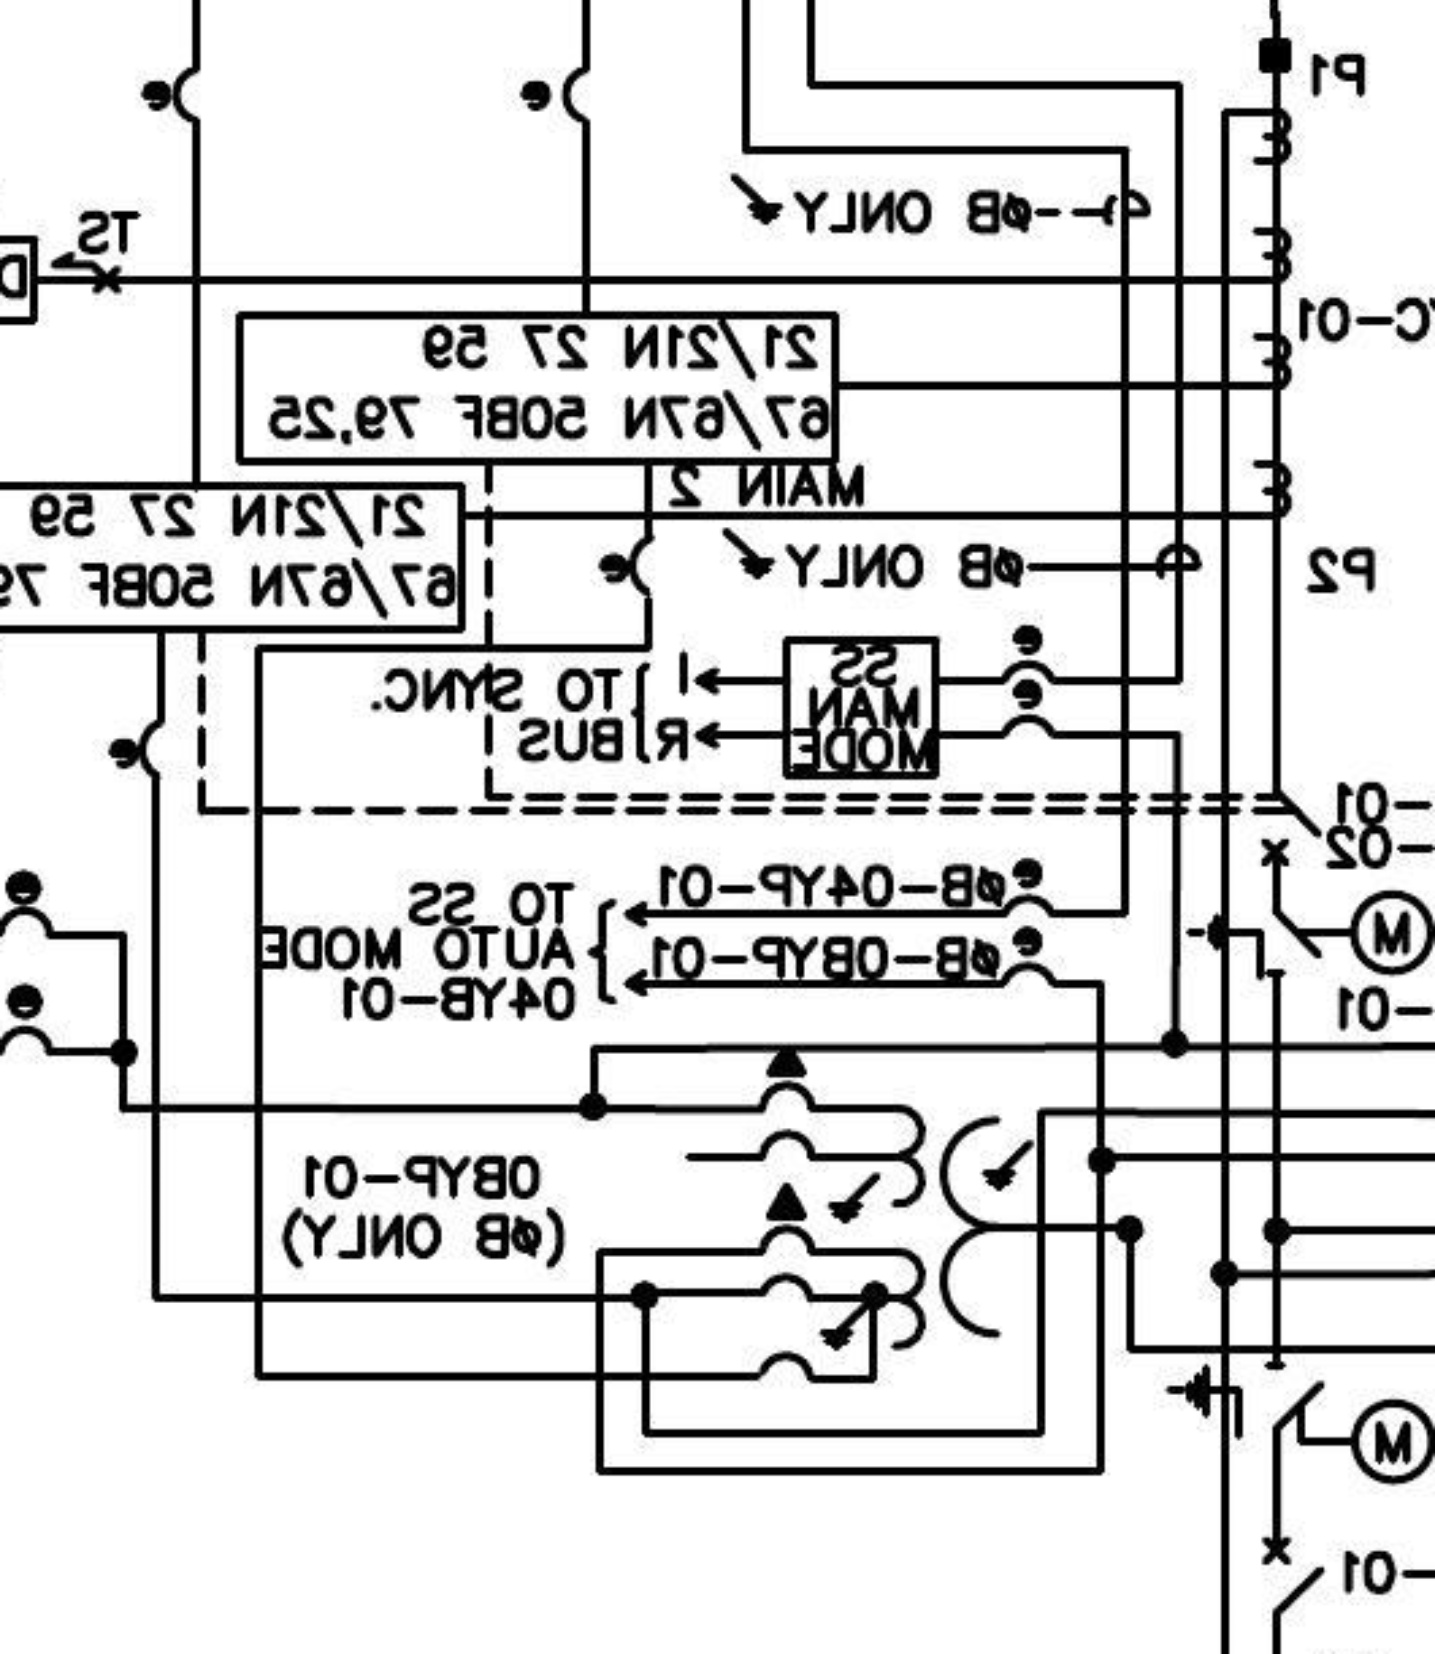115_breaker: (1258, 788, 1324, 870), (1238, 1537, 1304, 1619)
115_vt_1p: (755, 1044, 1037, 1353)
ss_man_mode: (780, 633, 943, 782)
